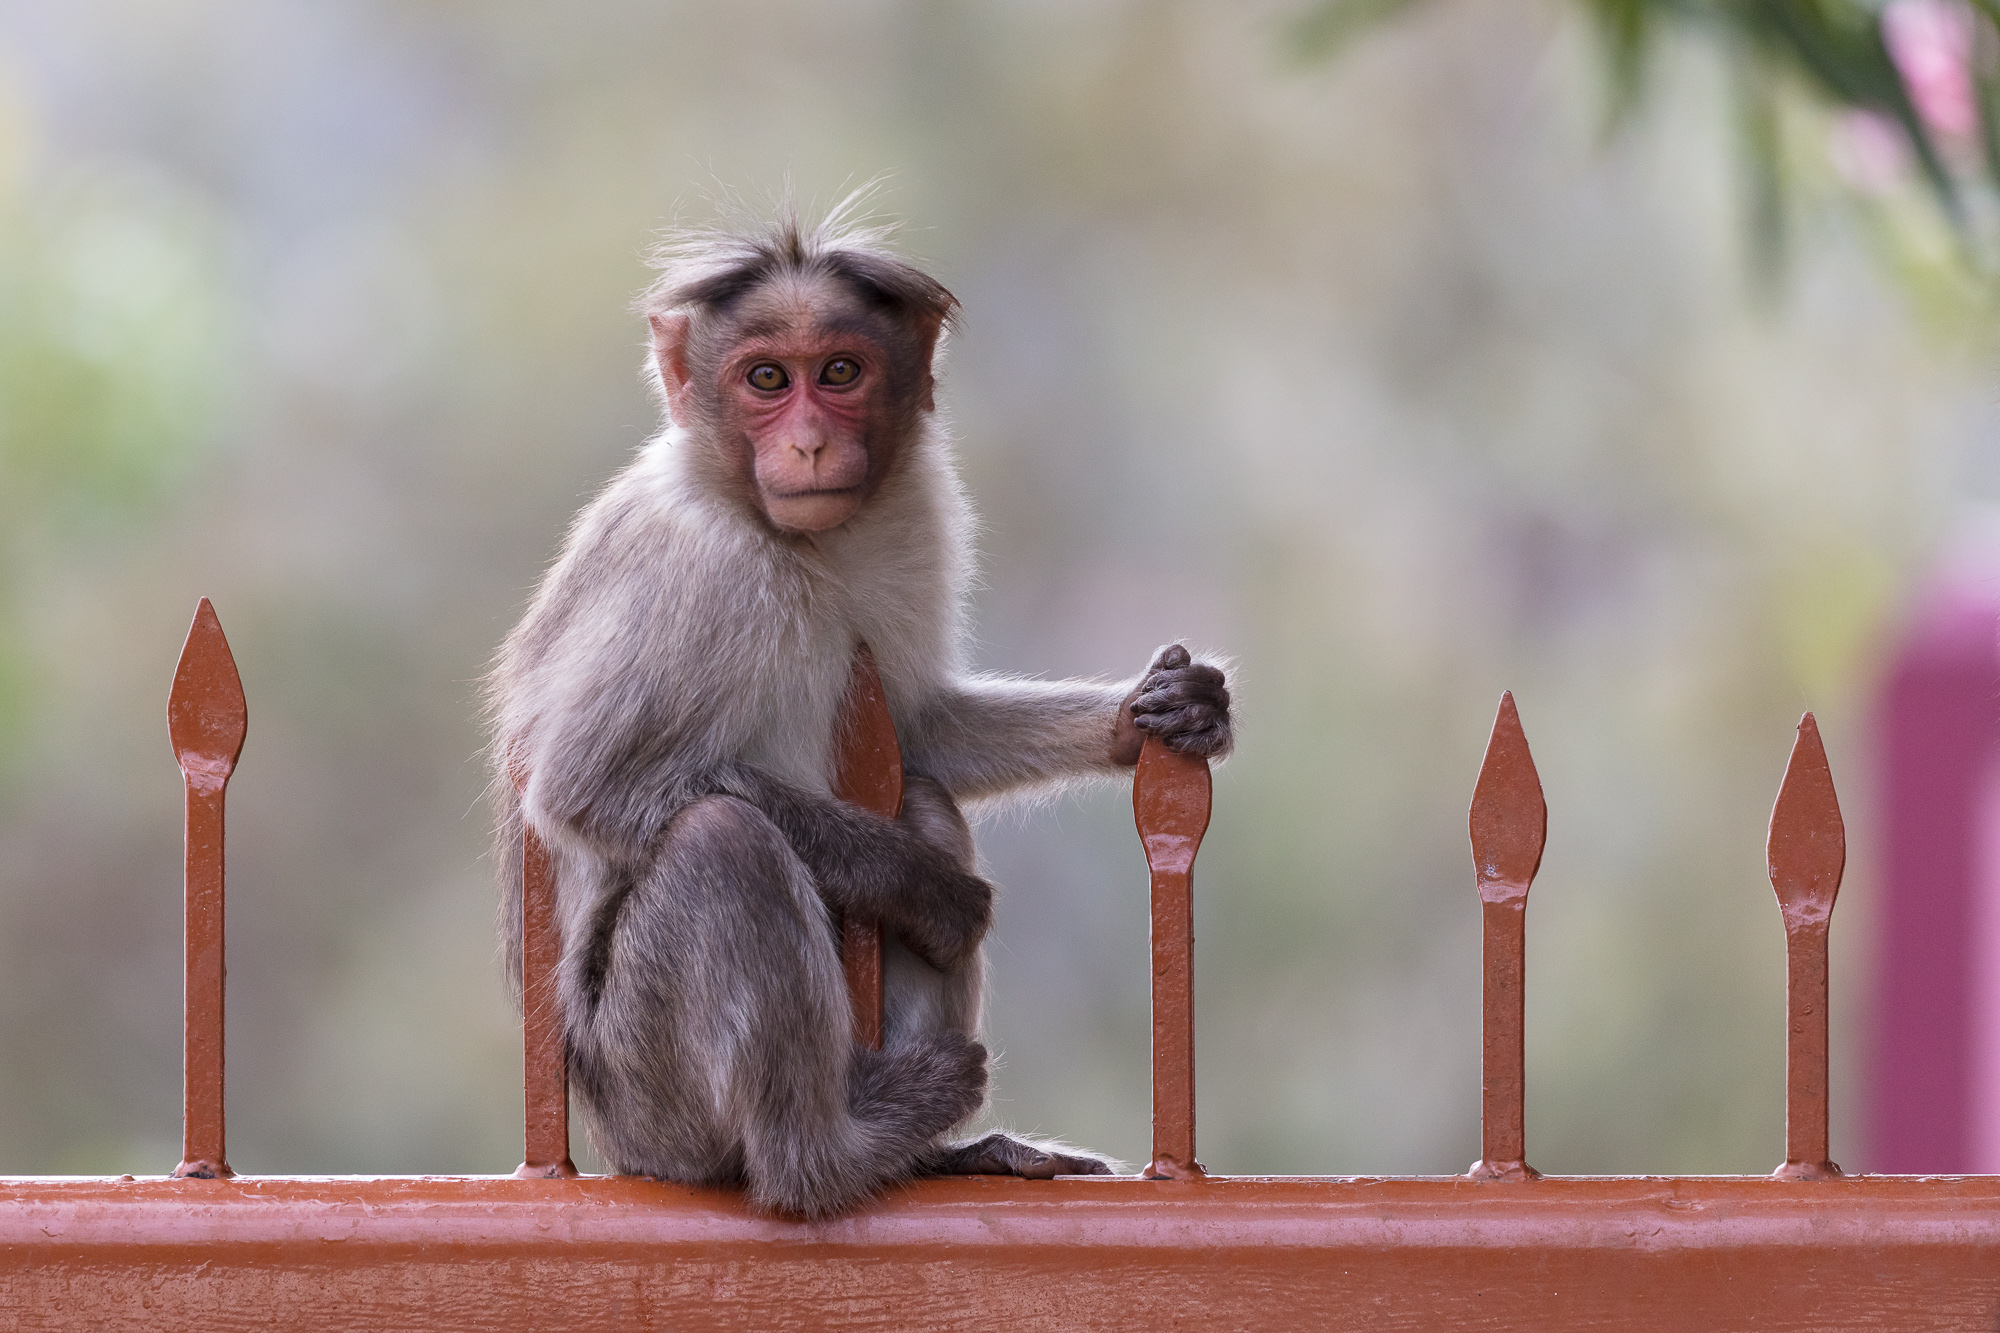monkey: (465, 199, 1251, 1236)
